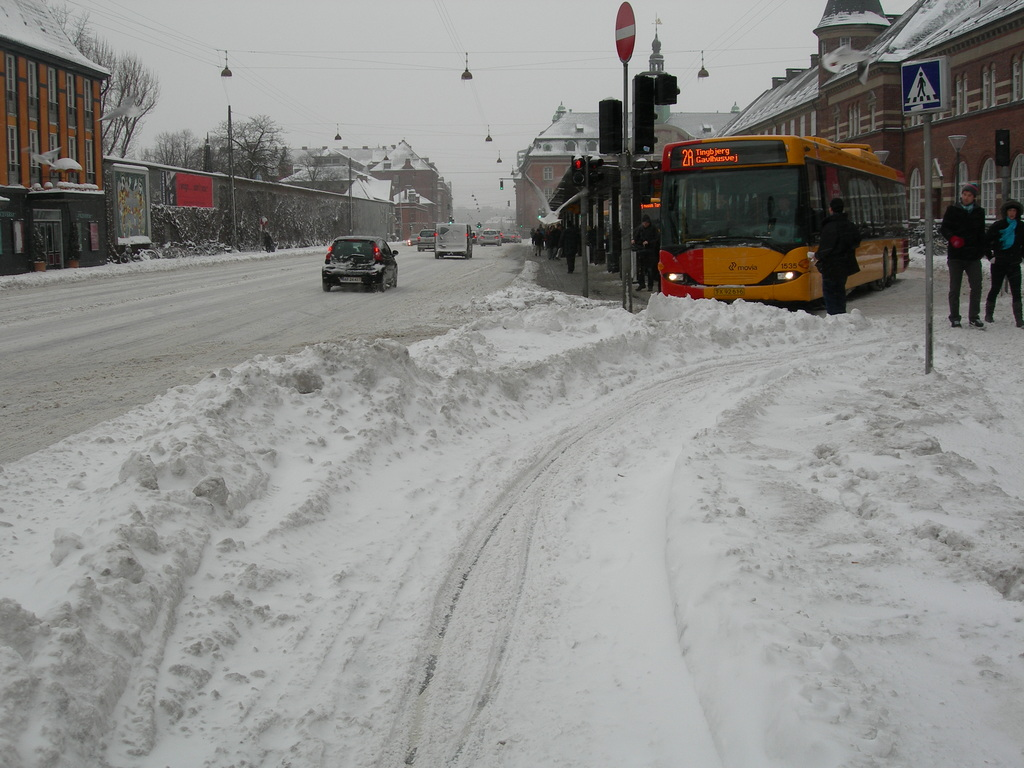Bus: (654, 135, 910, 311)
